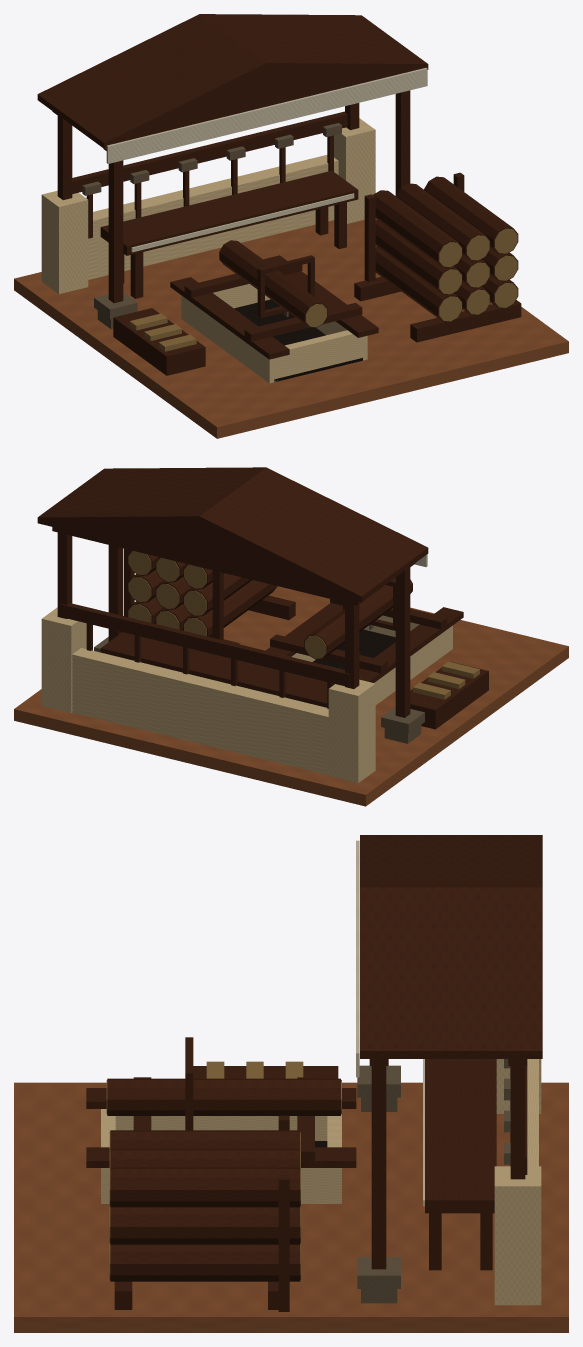
Rendered from Berber_Lumber_Age3.fbx.
3 renders of one model, top to bottom at view 1: azimuth 30°, elevation 25°; view 2: azimuth 150°, elevation 25°; view 3: azimuth 270°, elevation 25°, orthographic. The views are drawn at different scales.
Visible parts, largest first — view 1: yard_foundation, covered_tool_roof, rear_low_masonry, tool_bench_top, owner_front_roof_valance, shelter_stone_pier, tool_rack_backrail, shelter_stone_pier.001, offcut_sorting_bin, sawpit_work_log, sorted_timber.006, pit_end (+21 smaller); view 2: covered_tool_roof, yard_foundation, rear_low_masonry, tool_bench_top, tool_rack_backrail, shelter_stone_pier, shelter_stone_pier.001, shelter_post, offcut_sorting_bin, sawpit_work_log, pit_side, pit_rim_plank (+19 smaller); view 3: yard_foundation, covered_tool_roof, tool_bench_top, sawpit_work_log, sorted_timber.008, sorted_timber.005, sorted_timber.002, shelter_stone_pier.001, sorted_timber.007, sorted_timber.006, shelter_post.002, pit_side (+14 smaller).
Boxes of the visible parts, x1,y1,x2,y2 form: yard_foundation: (14, 218, 568, 438); covered_tool_roof: (37, 14, 428, 148); rear_low_masonry: (88, 155, 338, 279); tool_bench_top: (100, 170, 358, 255); owner_front_roof_valance: (106, 68, 427, 163); shelter_stone_pier: (41, 190, 88, 293); tool_rack_backrail: (72, 111, 347, 193); shelter_stone_pier.001: (334, 118, 375, 223); offcut_sorting_bin: (113, 308, 205, 375); sawpit_work_log: (219, 240, 327, 327); sorted_timber.006: (373, 190, 462, 267); pit_end: (279, 330, 358, 377); covered_tool_roof: (37, 467, 428, 602); yard_foundation: (14, 586, 568, 806); rear_low_masonry: (72, 648, 328, 774); tool_bench_top: (100, 632, 334, 707); tool_rack_backrail: (60, 603, 350, 687); shelter_stone_pier: (328, 679, 375, 783); shelter_stone_pier.001: (41, 607, 86, 712); shelter_post: (395, 567, 410, 717); offcut_sorting_bin: (410, 661, 488, 729); sawpit_work_log: (304, 577, 412, 659); pit_side: (374, 625, 452, 704); pit_rim_plank: (359, 607, 463, 682); yard_foundation: (14, 1082, 568, 1332); covered_tool_roof: (360, 835, 542, 1058); tool_bench_top: (425, 1059, 496, 1213); sawpit_work_log: (107, 1078, 340, 1115); sorted_timber.008: (110, 1167, 300, 1207); sorted_timber.005: (110, 1207, 300, 1244); sorted_timber.002: (110, 1244, 300, 1281); shelter_stone_pier.001: (494, 1166, 541, 1305); sorted_timber.007: (110, 1148, 300, 1167); sorted_timber.006: (110, 1130, 300, 1148); shelter_post.002: (371, 1066, 386, 1269); pit_side: (115, 1116, 327, 1140).
Size of the model in its own units: 380 by 248 by 380.
Materials: 7 (7 with a texture image).
